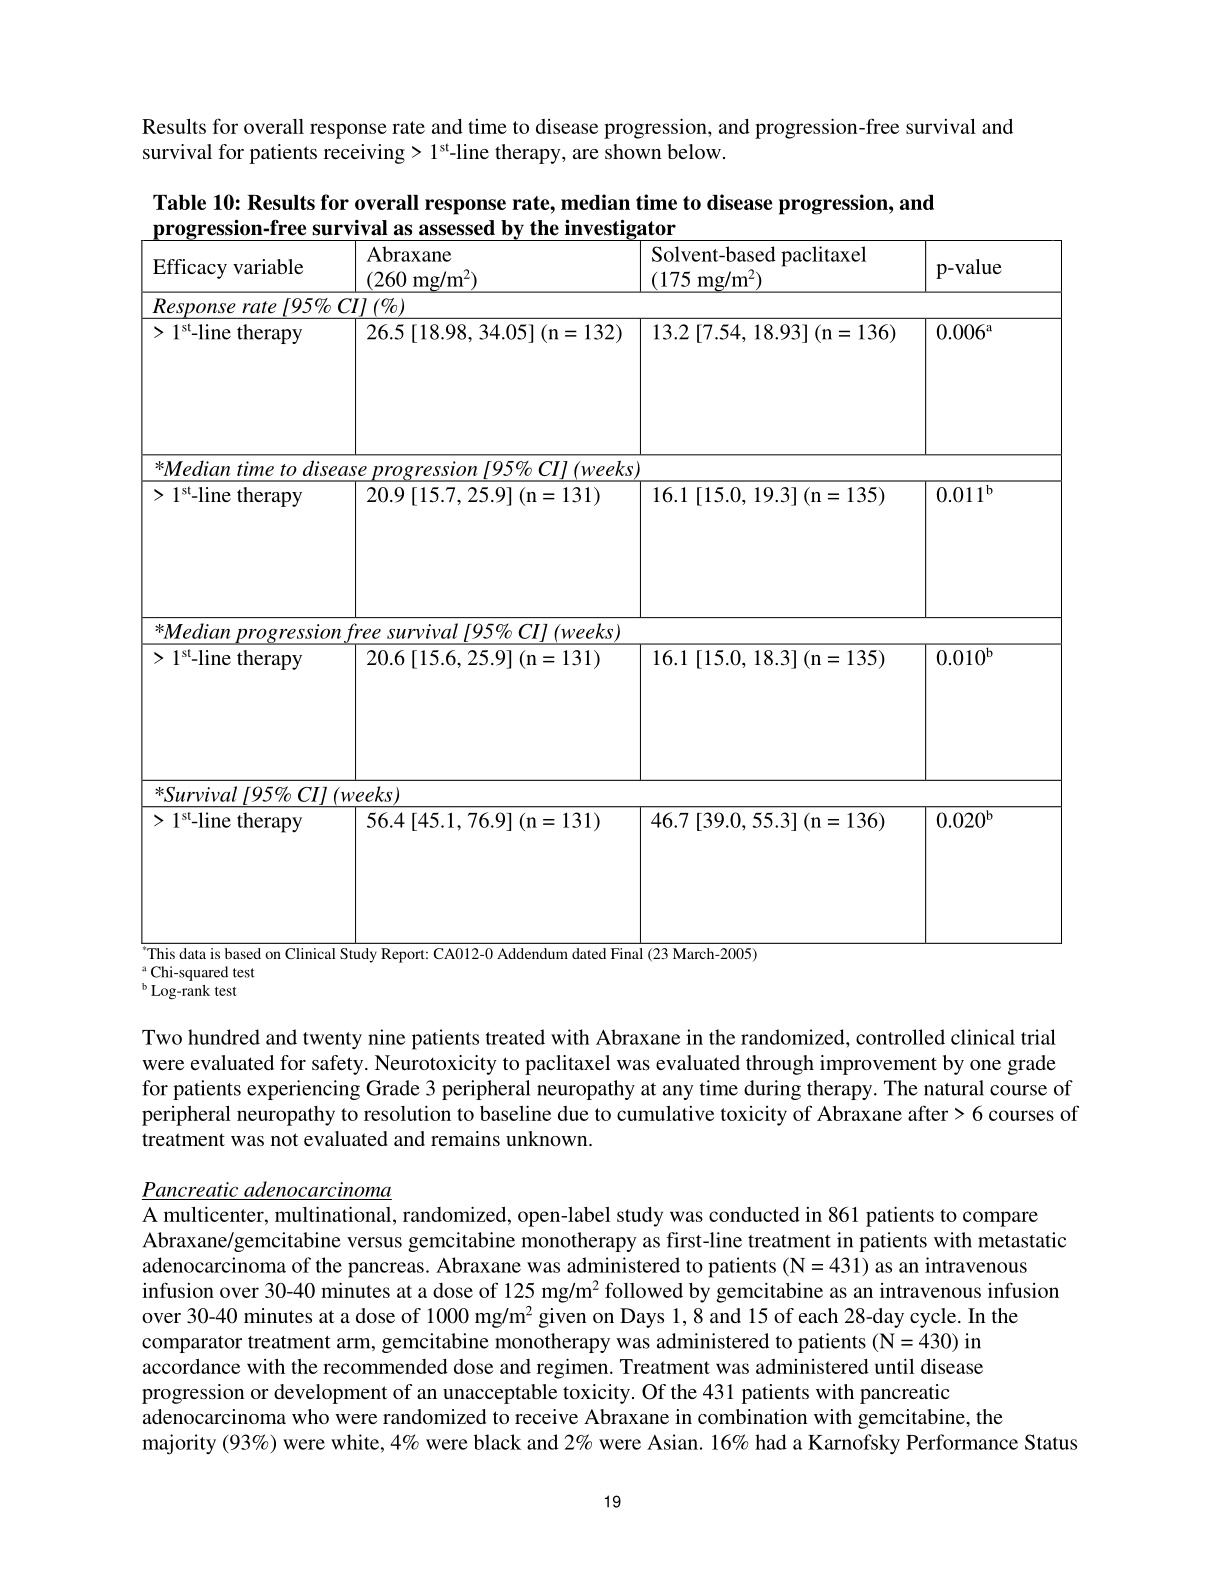merged_cells: (141, 239, 1063, 946)
